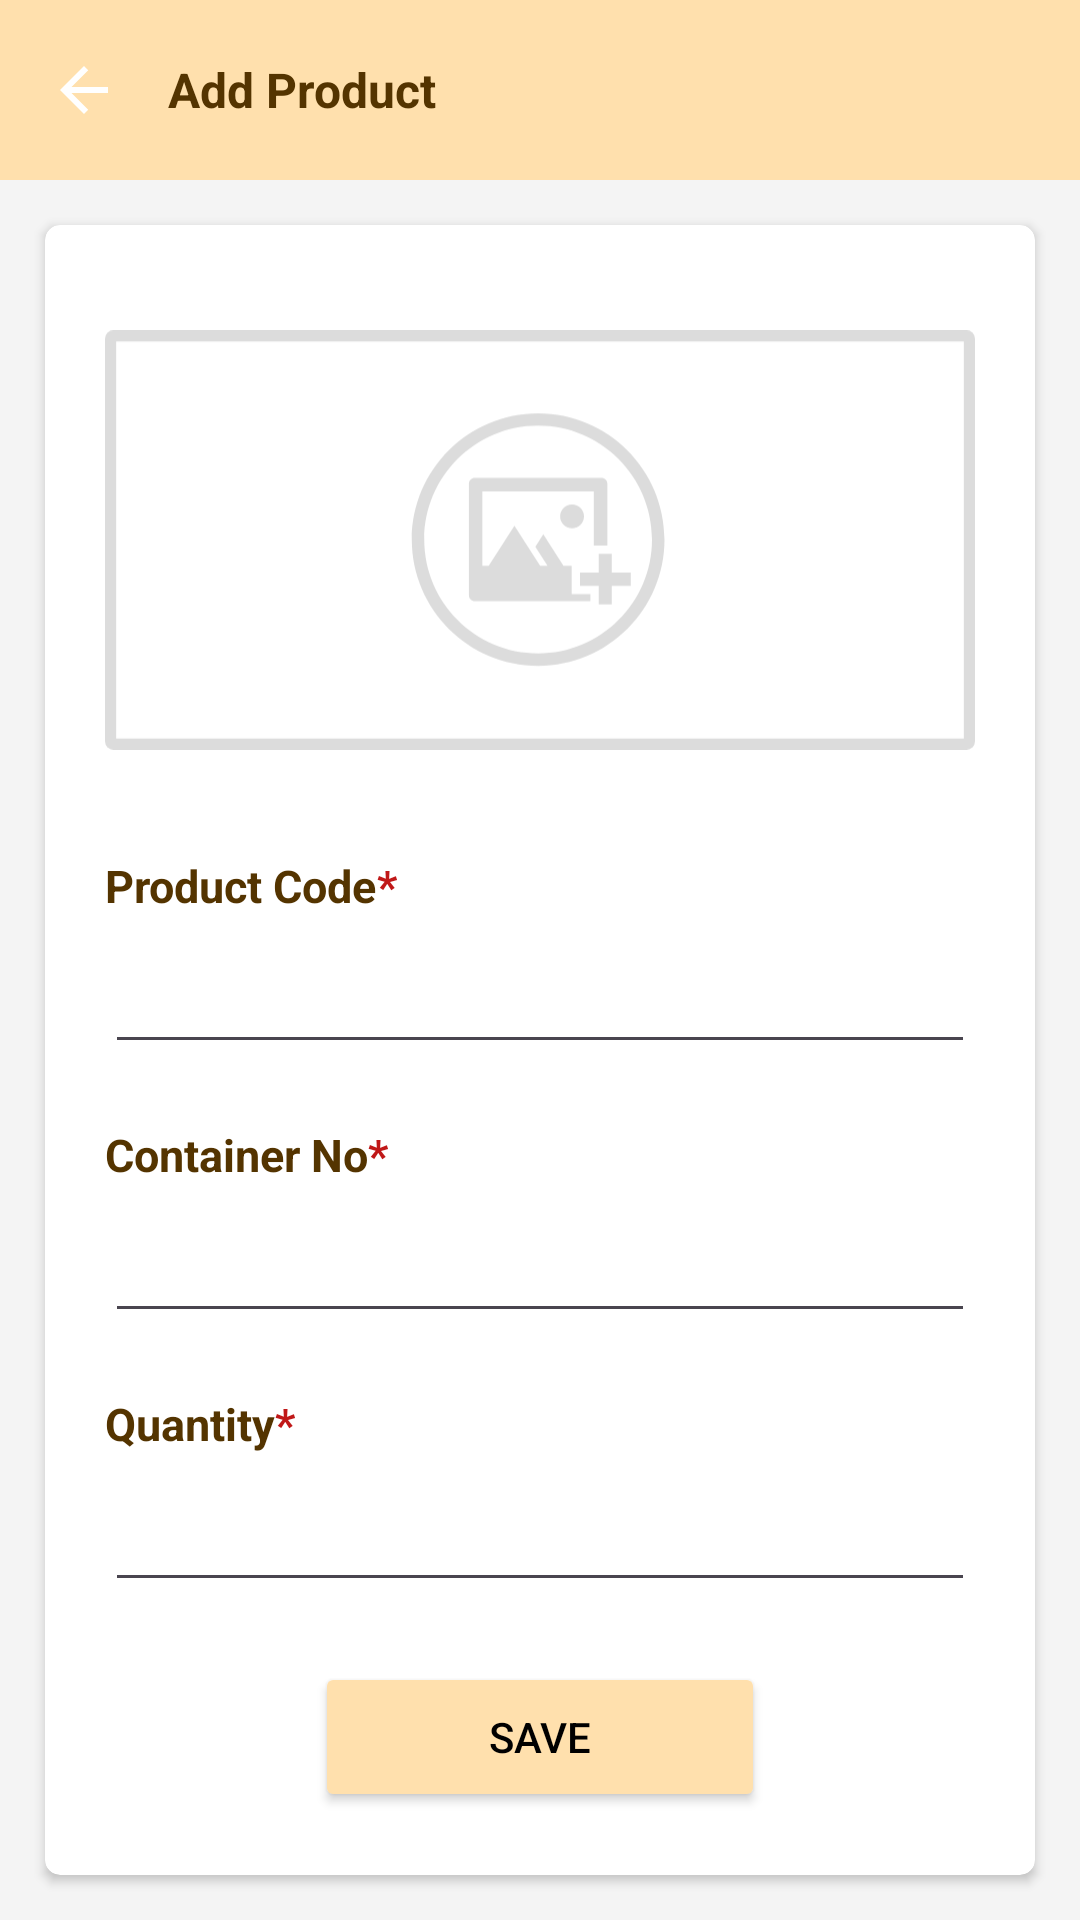

Icon click points for this 1080px x 1920px phone screenshot, format (x=x, y=y):
back arrow: (x=84, y=90)
